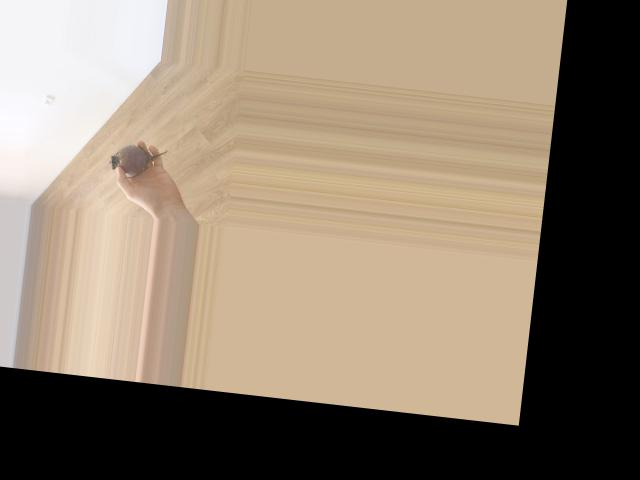beet: (109, 141, 167, 180)
